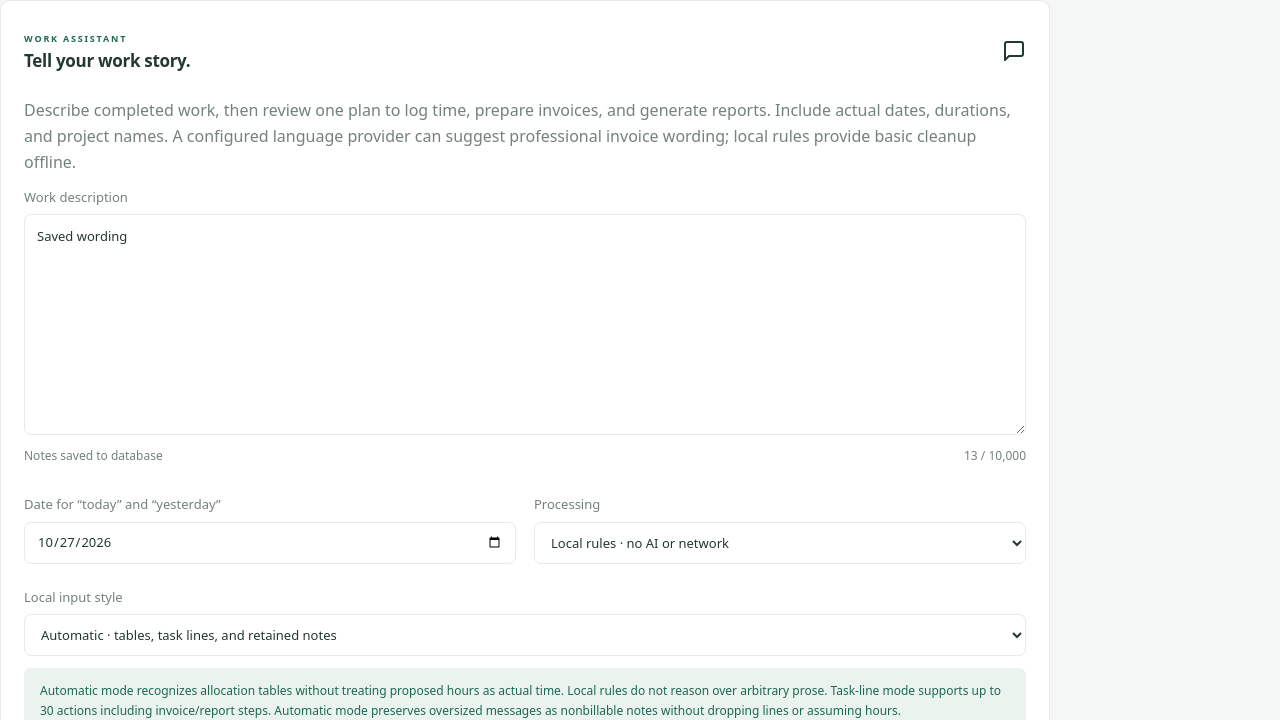
Test: keeps unsaved notes visible when database saving fails
This screenshot has width=1280, height=720.
Replace the text in the text box labelled "Work description" with "New unfinished work notes": (525, 325) [24, 214, 1026, 435]
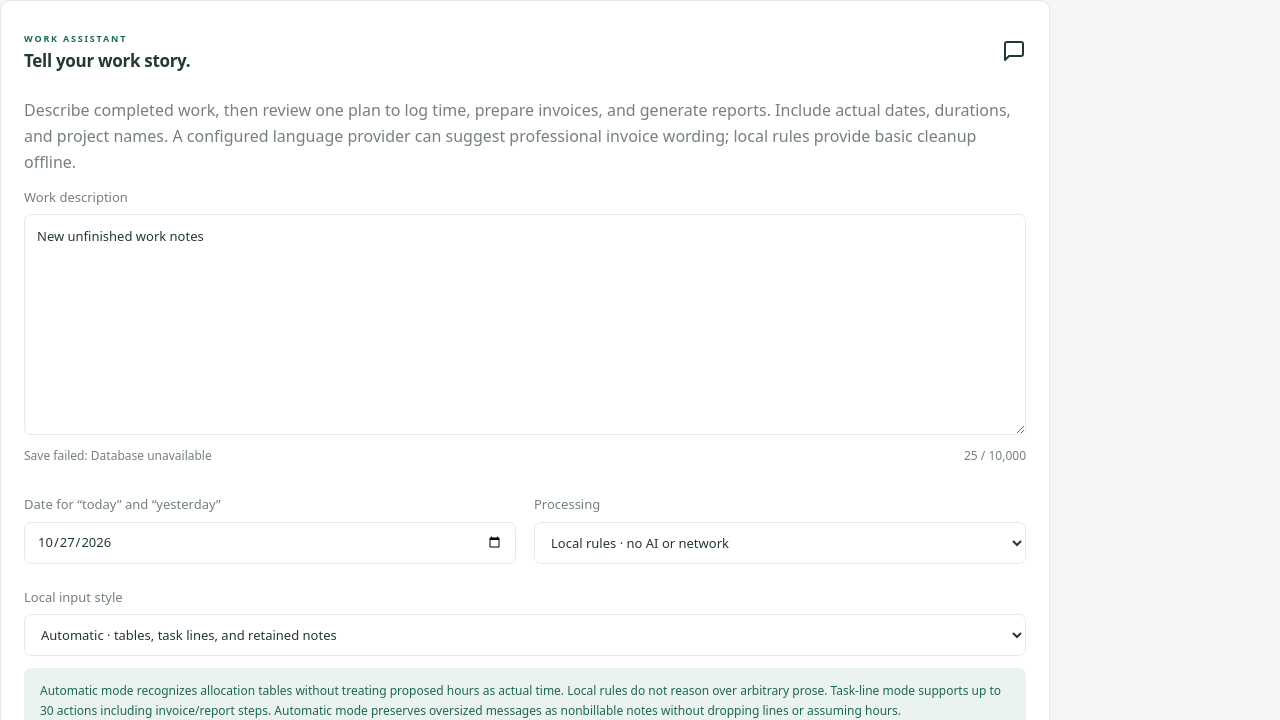
Now the text "Save failed: Database unavailable" is shown, box [24, 447, 212, 465]
